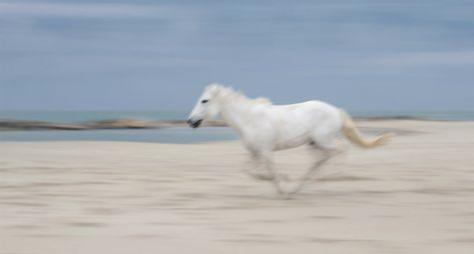horse: (186, 81, 394, 198)
